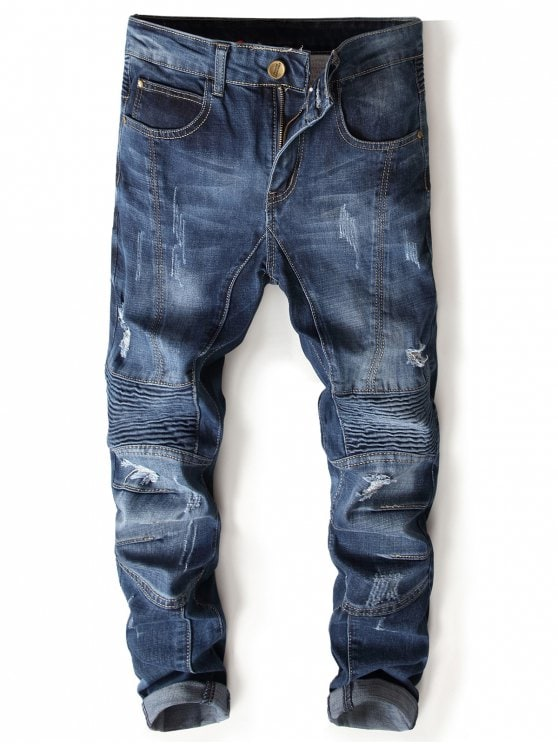jeans: (106, 14, 435, 732)
